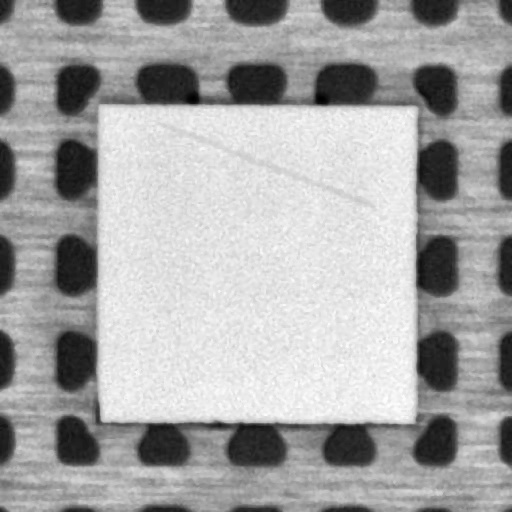DIE_CRACK: (157, 122, 373, 206)
